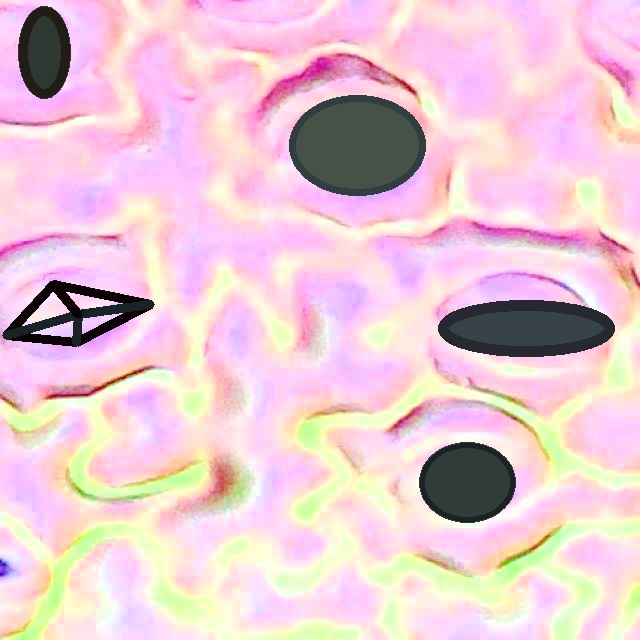close: (438, 300, 614, 357), (2, 281, 154, 346), (419, 441, 516, 522), (19, 7, 70, 98)
open: (289, 95, 424, 195)
